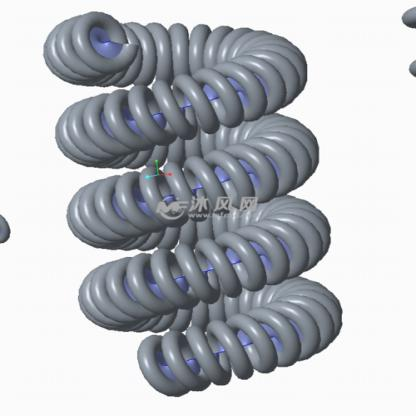FOD: (40, 9, 346, 401)
